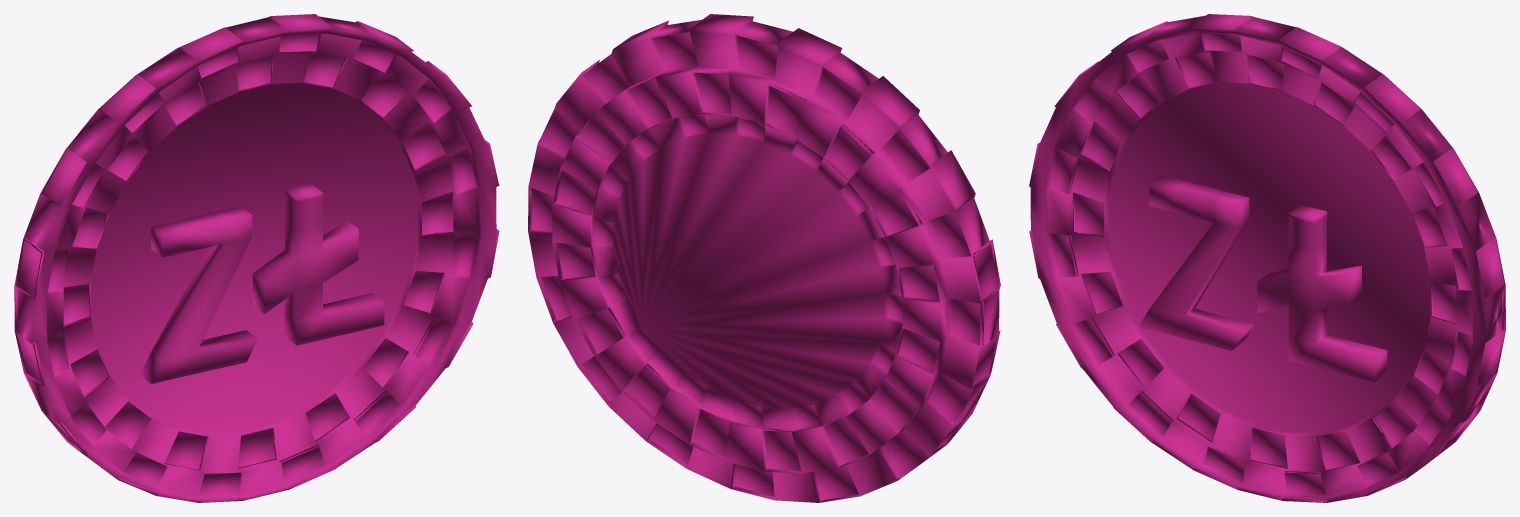
The model's file is coinpurple.fbx.
3 views of the same model, side by side, from view 1: azimuth 30°, elevation 25°; view 2: azimuth 150°, elevation 25°; view 3: azimuth 330°, elevation 25° (orthographic).
Parts seen in each view (by area): view 1: Circle; view 2: Circle; view 3: Circle.
Part boxes in pixels (box(x1,y1,x2,y2)): Circle: box(14, 14, 499, 502); Circle: box(528, 14, 1000, 502); Circle: box(1029, 14, 1505, 502).
Bounding box in the file's own units: 200 × 191 × 24.49.
